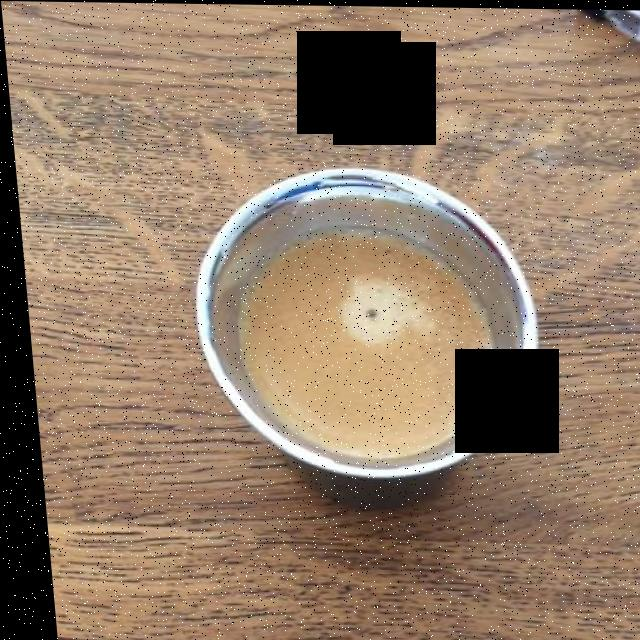espresso-with-caffeine: (233, 228, 487, 453)
